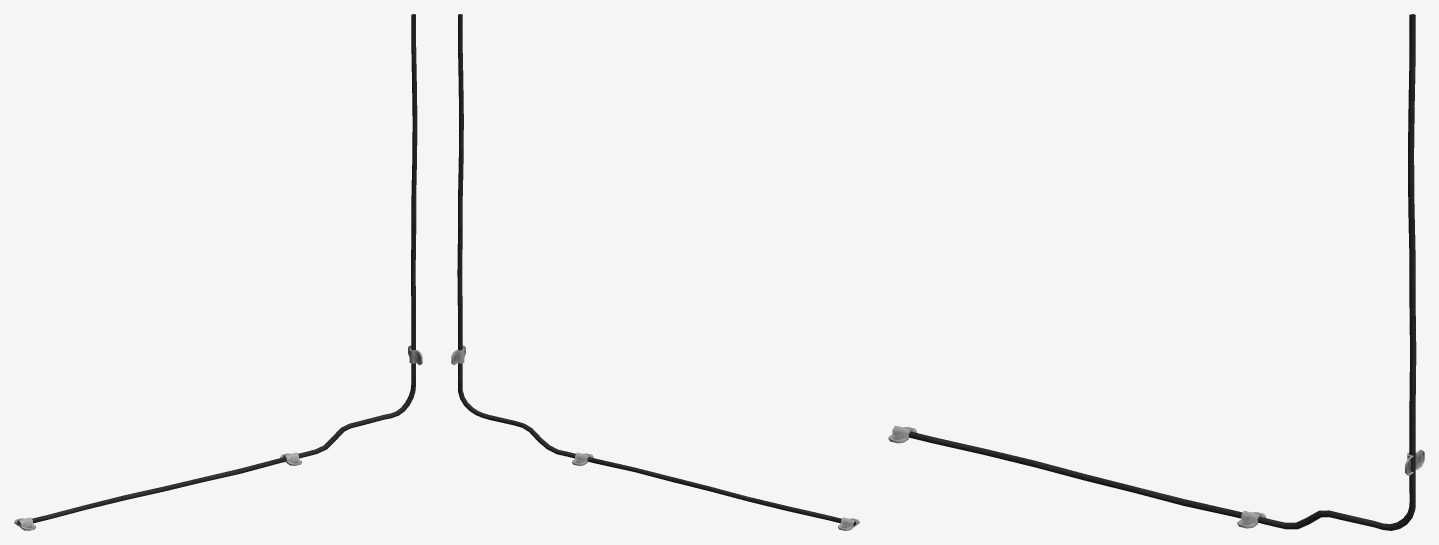
File: Cable_50cm_corner_floorPlinth.fbx
3 views of the same model, side by side, from view 1: azimuth 30°, elevation 25°; view 2: azimuth 150°, elevation 25°; view 3: azimuth 330°, elevation 25° (orthographic). The views are drawn at different scales.
Visible parts, largest first — view 1: Cable_50cm_corner_floorPlinth; view 2: Cable_50cm_corner_floorPlinth; view 3: Cable_50cm_corner_floorPlinth.
Boxes of the visible parts, <box> form: Cable_50cm_corner_floorPlinth: <box>14,14,422,530</box>; Cable_50cm_corner_floorPlinth: <box>451,14,859,530</box>; Cable_50cm_corner_floorPlinth: <box>888,14,1424,530</box>.
Bounding box in the file's own units: 50 × 50 × 2.92.
